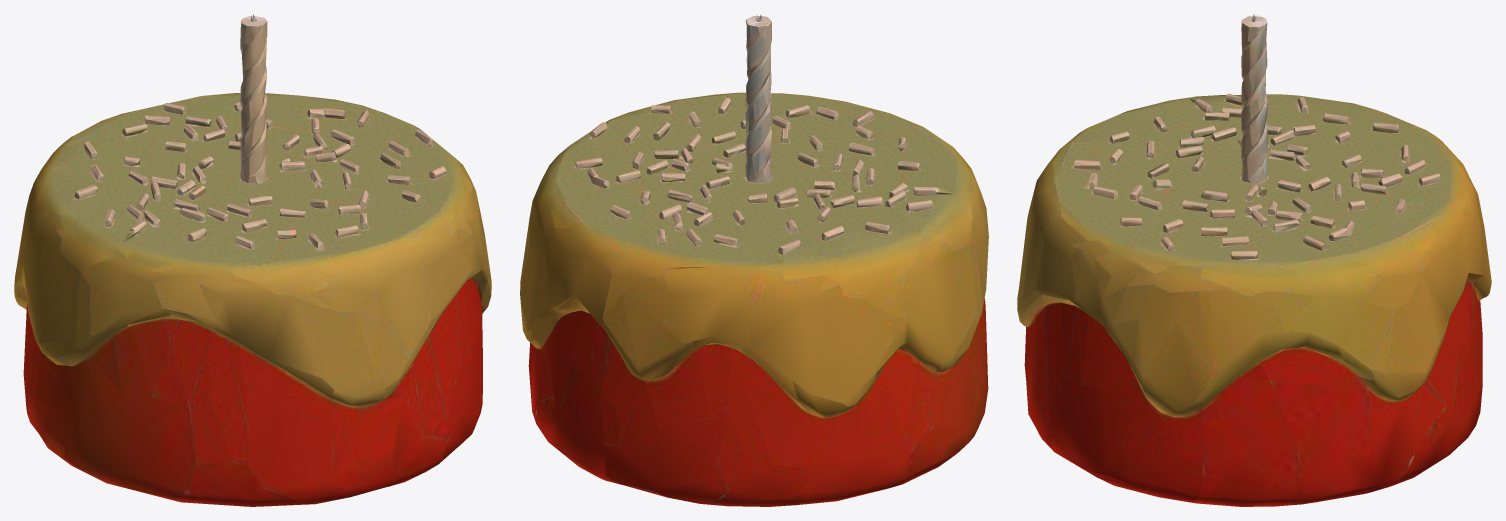
File: cake.f261855c.glb
3 renders of one model, left to right at view 1: azimuth 30°, elevation 25°; view 2: azimuth 150°, elevation 25°; view 3: azimuth 270°, elevation 25°, orthographic.
Visible parts, largest first — view 1: output_unwrapped; view 2: output_unwrapped; view 3: output_unwrapped.
Boxes of the visible parts, left/top/right/bottom form: output_unwrapped: left=14, top=14, right=491, bottom=506; output_unwrapped: left=520, top=14, right=988, bottom=506; output_unwrapped: left=1017, top=14, right=1491, bottom=506.
Bounding box in the file's own units: 1.69 × 1.6 × 1.71.
Materials: 1 (1 with a texture image).
